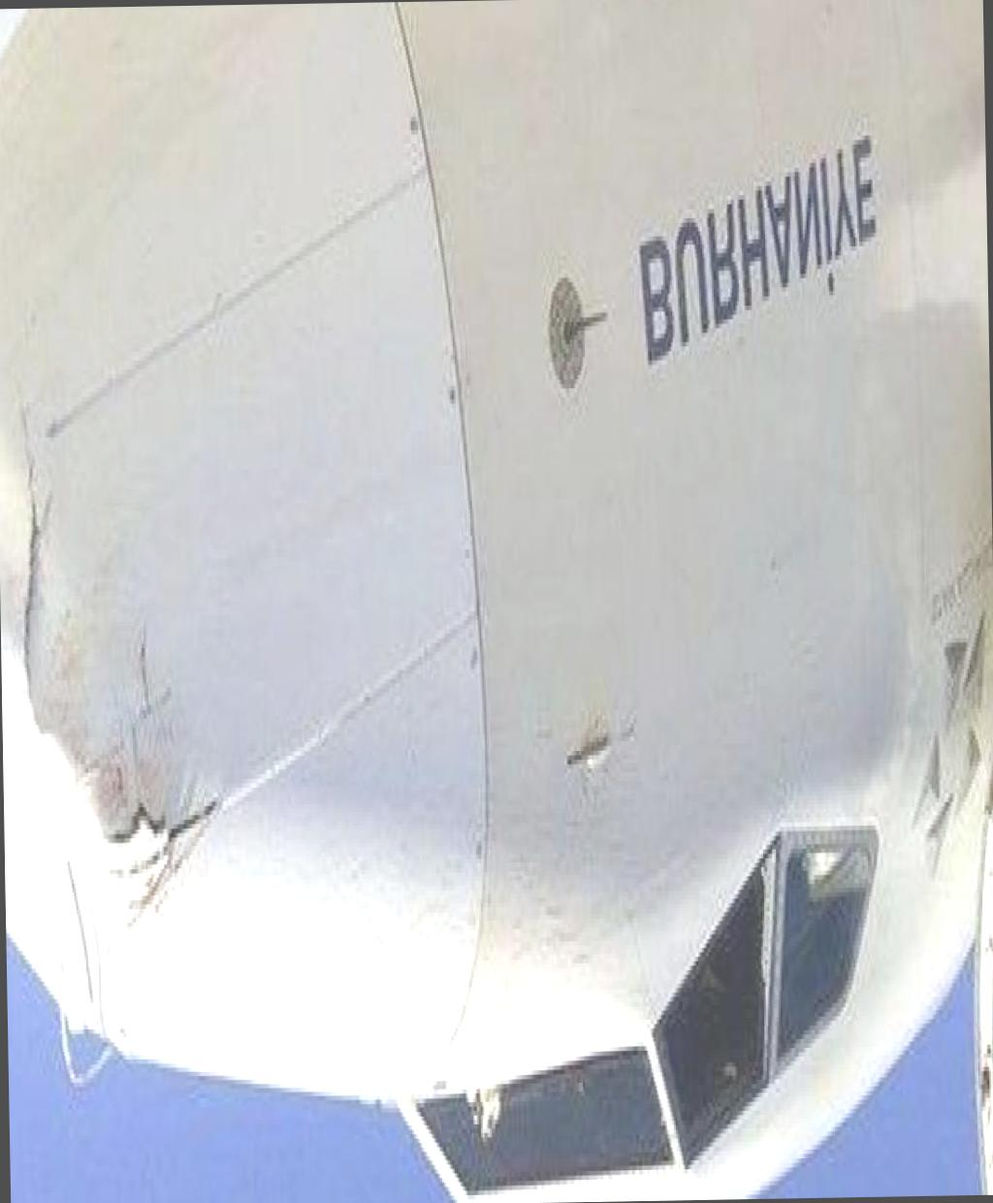crack: (102, 758, 228, 855)
dent: (0, 268, 134, 1044)
